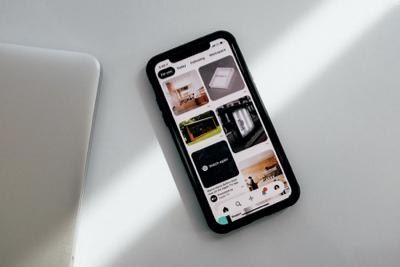cell-phone: (144, 27, 301, 236)
